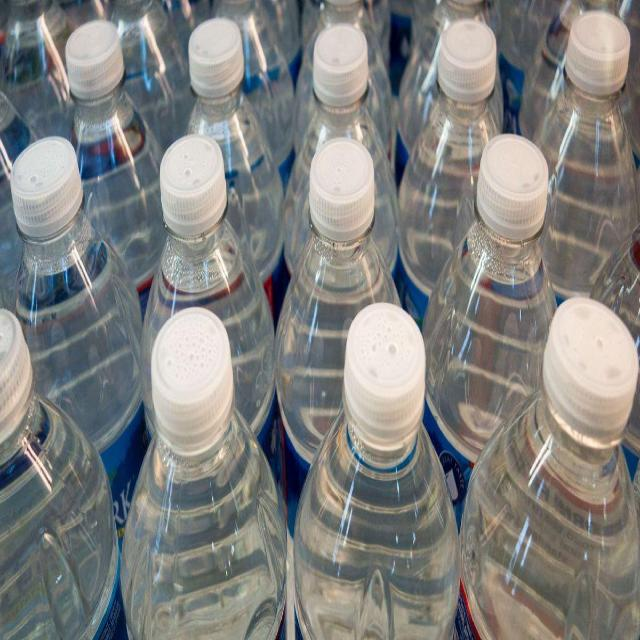plastic_bottle: (294, 306, 465, 640), (472, 305, 640, 640), (123, 319, 292, 640), (285, 149, 420, 492), (425, 140, 558, 476), (1, 294, 124, 640), (2, 148, 141, 453), (145, 140, 282, 447), (405, 16, 523, 324), (168, 16, 286, 304), (529, 16, 640, 320), (289, 16, 401, 290), (60, 29, 165, 295)
